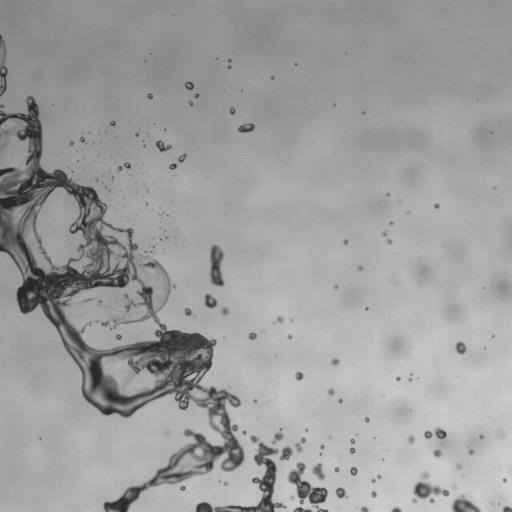droplet: (195, 435, 292, 511), (286, 462, 328, 511), (412, 471, 449, 503), (311, 462, 325, 480), (204, 294, 217, 308), (156, 140, 171, 151), (294, 437, 305, 452), (238, 123, 254, 132), (455, 341, 466, 354), (335, 487, 347, 498), (294, 371, 303, 380), (178, 154, 186, 162), (433, 449, 441, 457), (248, 332, 257, 339), (185, 82, 193, 89), (221, 307, 228, 315), (331, 358, 339, 365), (407, 435, 414, 443), (350, 467, 357, 475), (502, 505, 511, 511), (184, 308, 191, 315), (276, 316, 283, 323), (229, 107, 235, 114), (169, 163, 176, 169), (328, 388, 334, 395), (360, 506, 368, 511), (80, 136, 85, 143), (498, 431, 504, 436), (349, 448, 355, 453), (456, 463, 461, 469), (371, 491, 376, 497), (147, 93, 152, 98), (434, 203, 439, 208), (343, 239, 348, 244), (387, 239, 392, 244), (116, 334, 121, 339), (334, 467, 339, 472), (452, 484, 457, 489), (194, 93, 198, 98), (110, 121, 115, 125), (382, 231, 386, 236), (334, 284, 338, 289), (288, 334, 292, 339), (365, 417, 369, 422), (350, 438, 354, 443), (320, 444, 324, 449), (469, 449, 473, 454), (180, 486, 185, 490), (135, 132, 139, 136), (69, 141, 73, 145), (389, 221, 393, 225), (358, 266, 362, 270), (396, 376, 400, 380), (242, 430, 246, 434), (502, 478, 506, 482), (223, 481, 227, 485), (189, 102, 192, 106), (253, 399, 256, 403), (166, 431, 169, 435), (479, 435, 483, 438), (377, 475, 381, 478), (371, 479, 375, 482), (159, 213, 162, 216), (365, 307, 368, 310), (339, 399, 342, 402), (228, 59, 230, 62), (271, 76, 273, 79), (143, 144, 145, 147), (290, 318, 292, 321), (228, 66, 230, 68), (96, 178, 98, 180), (493, 186, 495, 188), (146, 189, 148, 191), (387, 193, 389, 195), (409, 378, 411, 380)
ligament: (0, 98, 241, 511), (209, 244, 224, 286), (451, 494, 481, 511), (0, 35, 7, 96), (79, 297, 109, 307), (424, 427, 446, 439), (272, 428, 283, 444), (117, 162, 130, 172), (390, 507, 402, 511)
